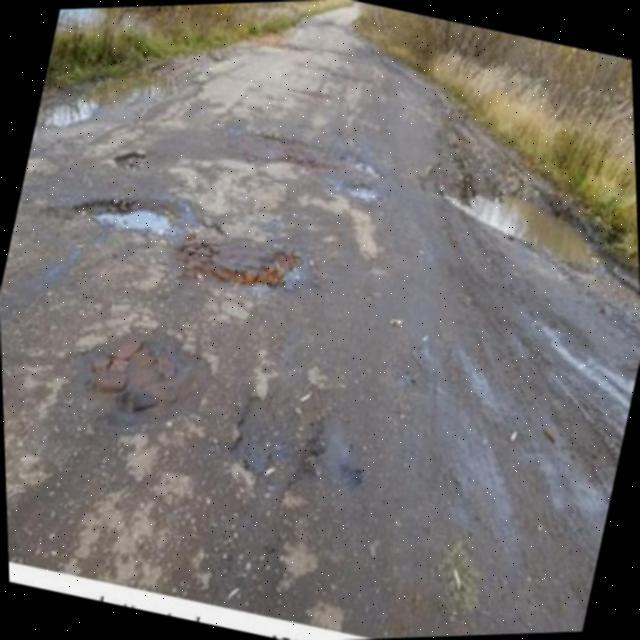Pothole: (419, 170, 595, 266), (36, 68, 174, 129), (46, 197, 178, 236), (114, 150, 147, 172)
